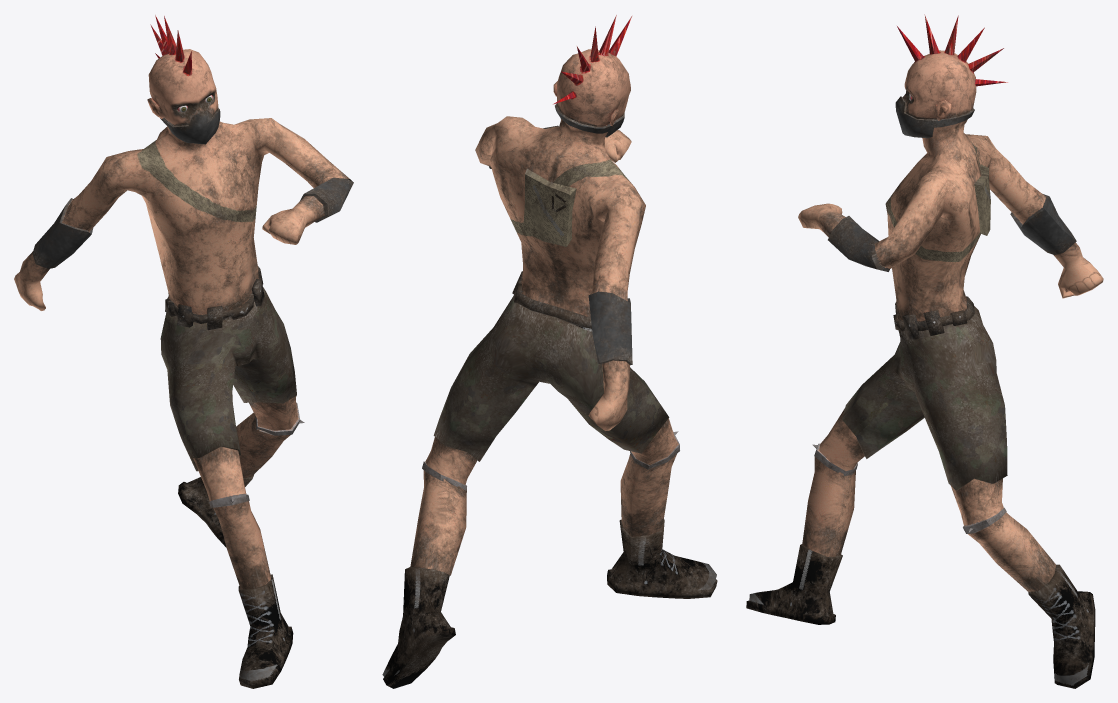
File: Anim_ataque_f3_npc2.0026.obj
3 views of the same model, side by side, from view 1: azimuth 30°, elevation 25°; view 2: azimuth 150°, elevation 25°; view 3: azimuth 270°, elevation 25° (orthographic). The views are drawn at different scales.
Visible parts, largest first — view 1: polySurface1; view 2: polySurface1; view 3: polySurface1.
Part boxes in pixels (x1,y1,x2,y2): polySurface1: (14, 15, 353, 688); polySurface1: (382, 15, 717, 688); polySurface1: (746, 14, 1103, 688).
Bounding box in the file's own units: 3.98 × 9.98 × 5.29.
